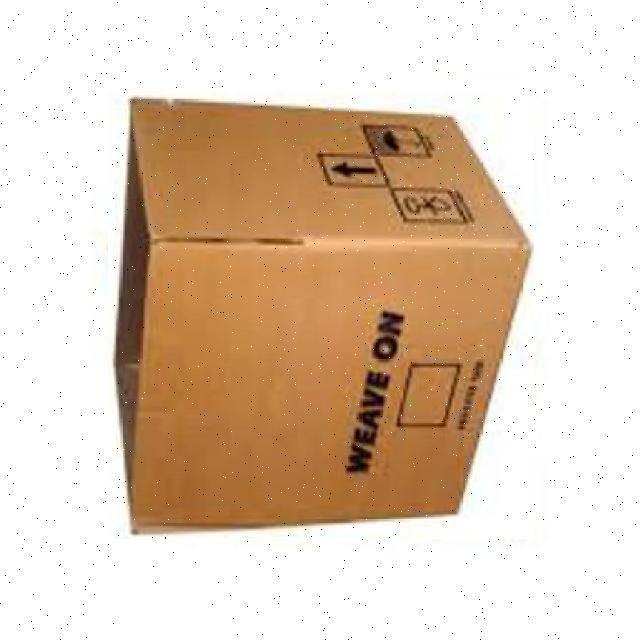defect: (108, 86, 534, 539)
